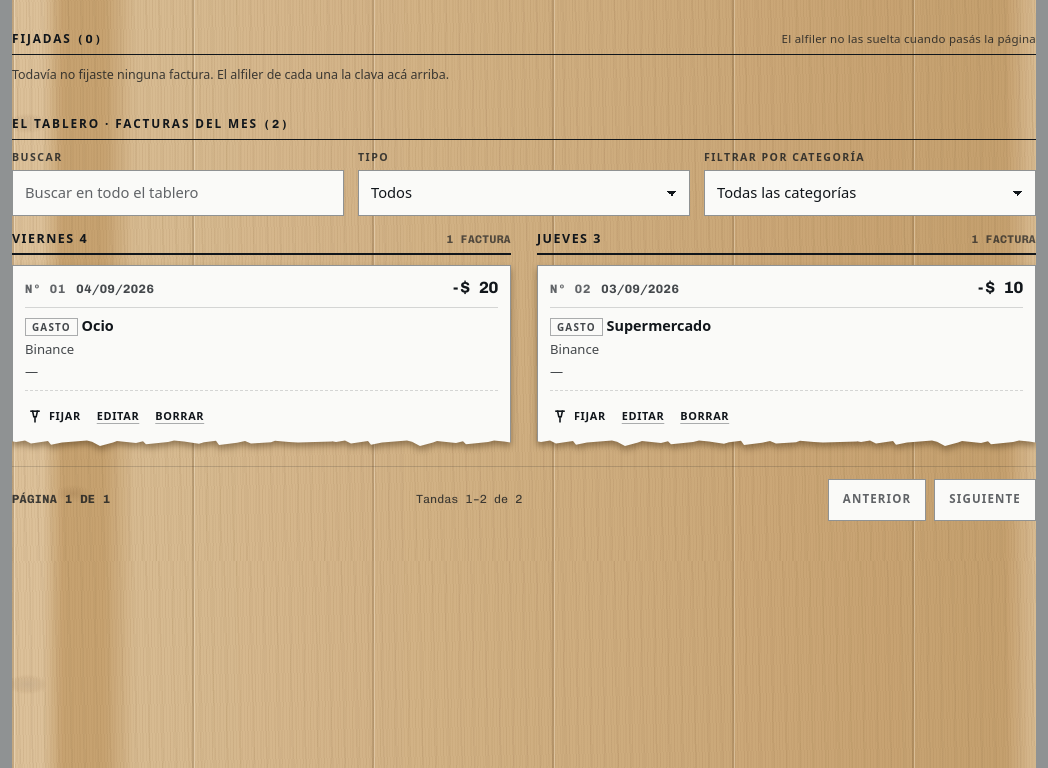
Board › lifts a pinned factura out of its day, into the strip, and remembers it
Expected: the text "Ocio" is shown, [82,316,114,335]
Expected: the element "Fijadas" shows "Todavía no fijaste ninguna factura.", [12,66,449,83]
What coordinates should you click on to do the following:
click the button with aria-label "Fijar en el tablero: Ocio"
I would click on:
 (54, 416)
Its box is [25,399,83,433].
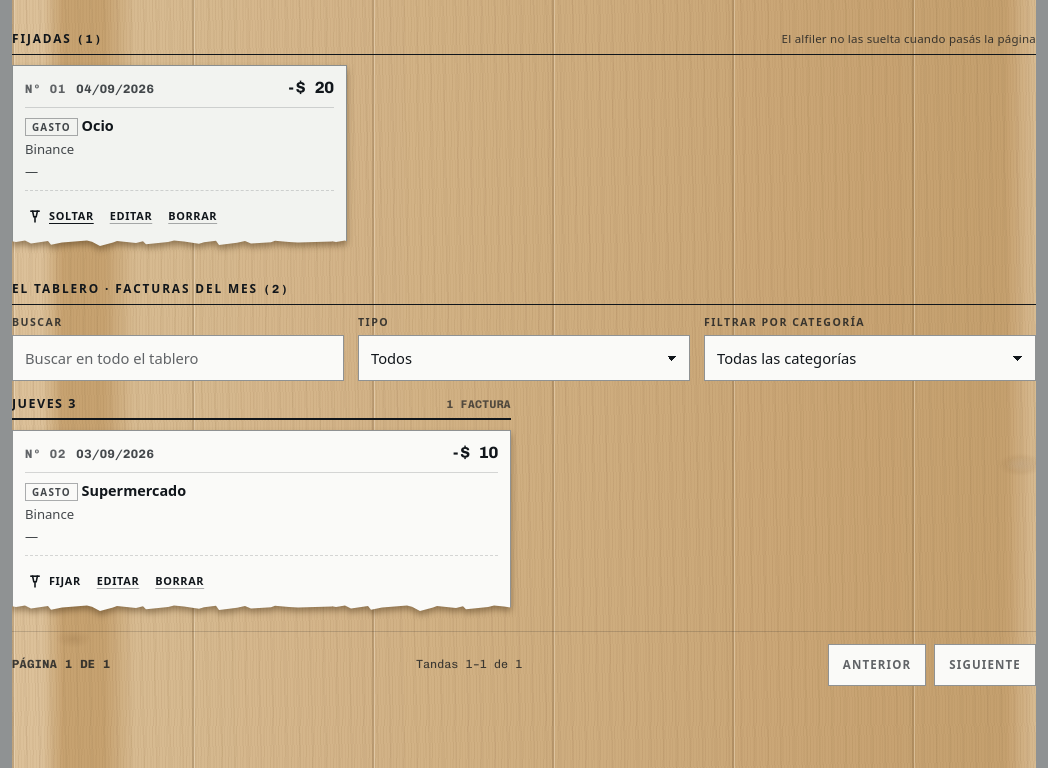
Expected: the text "Ocio" is shown, [82,116,114,135]
Now the text "(1)" is shown, box [77,32,104,46]
